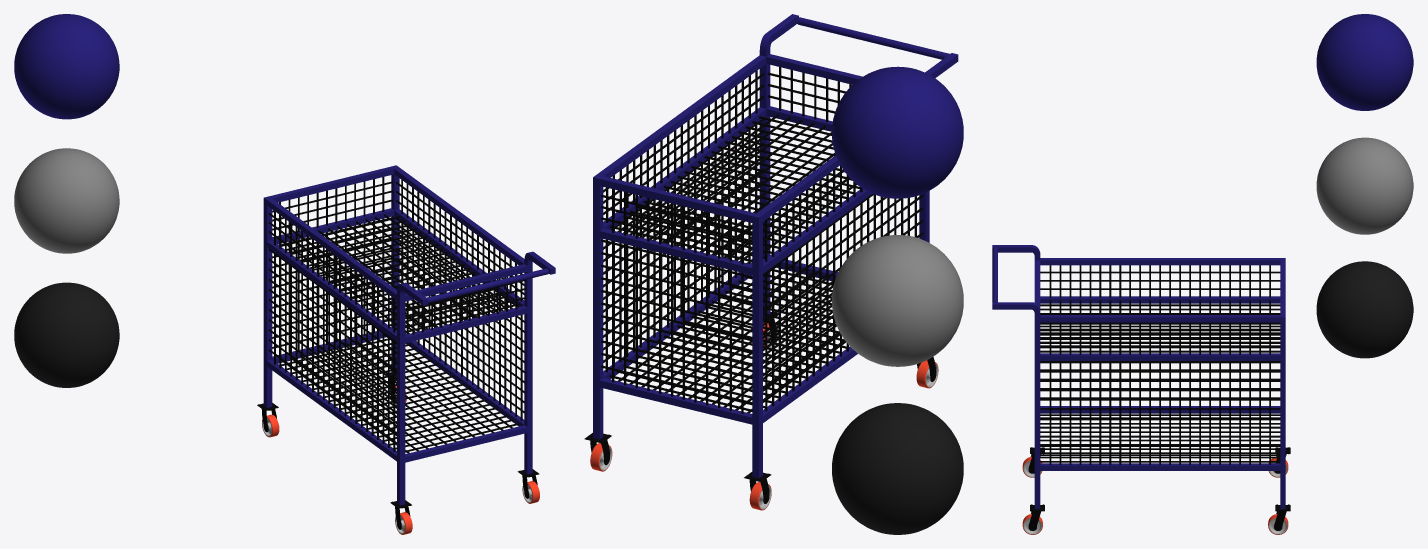
File: cart.fbx
3 views of the same model, side by side, from view 1: azimuth 30°, elevation 25°; view 2: azimuth 150°, elevation 25°; view 3: azimuth 270°, elevation 25° (orthographic). The views are drawn at different scales.
Parts seen in each view (by area): view 1: cart (×2), Sphere003, Sphere002, Sphere001, Box220, Box223, Box221, Box226, Box225, Box241, Box232, Box234 (+7 smaller); view 2: cart (×2), Sphere003, Sphere001, Sphere002, Box223, Box225, Box227, Box233, Box242, Box240, Box241, Box221 (+9 smaller); view 3: cart (×2), Sphere002, Sphere001, Sphere003, Box225, Box226, Box231, Box240, Box241, Box232, Box221, Line238 (+3 smaller).
Boxes of the visible parts, x1,y1,x2,y2 form: cart (×2): [269, 165, 526, 453]; Sphere003: [14, 14, 119, 119]; Sphere002: [14, 148, 119, 253]; Sphere001: [14, 282, 119, 387]; Box220: [397, 295, 405, 505]; Box223: [263, 196, 272, 407]; Box221: [524, 265, 532, 474]; Box226: [267, 198, 396, 300]; Box225: [394, 167, 524, 265]; Box241: [267, 240, 396, 341]; Box232: [267, 359, 396, 461]; Box234: [405, 425, 527, 462]; cart (×2): [593, 67, 862, 439]; Sphere003: [832, 66, 963, 198]; Sphere001: [832, 403, 963, 534]; Sphere002: [832, 235, 963, 366]; Box223: [752, 213, 762, 478]; Box225: [597, 55, 766, 177]; Box227: [599, 176, 755, 222]; Box233: [599, 377, 752, 424]; Box242: [599, 228, 752, 274]; Box240: [603, 107, 766, 229]; Box241: [763, 189, 872, 273]; Box221: [759, 64, 770, 316]; cart (×2): [1040, 265, 1285, 509]; Sphere002: [1316, 137, 1413, 234]; Sphere001: [1316, 261, 1413, 358]; Sphere003: [1316, 14, 1413, 110]; Box225: [1040, 315, 1280, 322]; Box226: [1040, 258, 1280, 265]; Box231: [1040, 463, 1280, 470]; Box240: [1040, 353, 1280, 360]; Box241: [1040, 296, 1280, 303]; Box232: [1040, 406, 1280, 413]; Box221: [1034, 317, 1040, 509]; Line238: [1040, 361, 1280, 363].
Bounding box in the file's own units: 1269 × 1516 × 1493.
